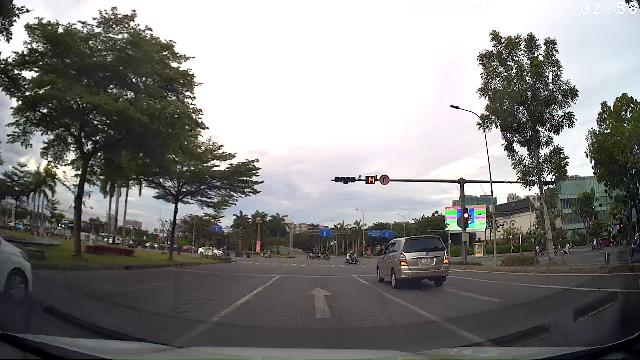123b-cam-re-phai: (380, 174, 390, 185)
